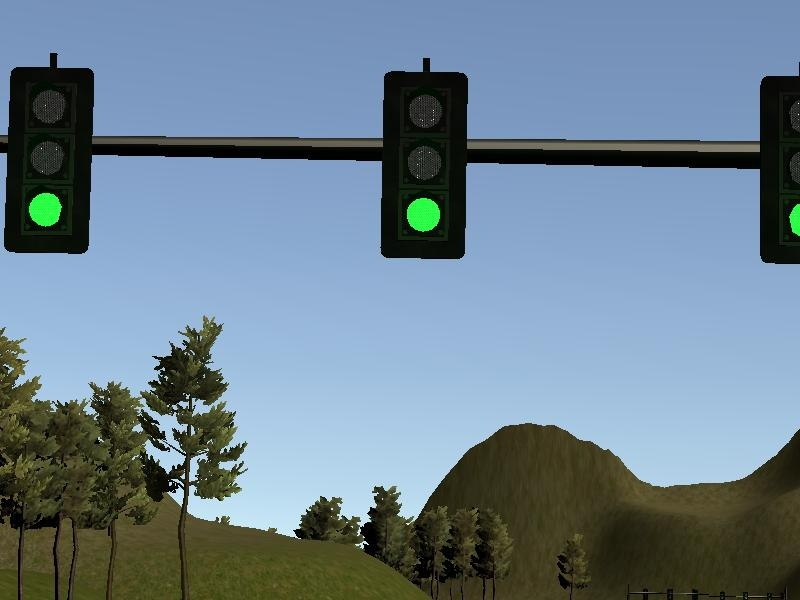traffic_light_green: (1, 53, 799, 274)
